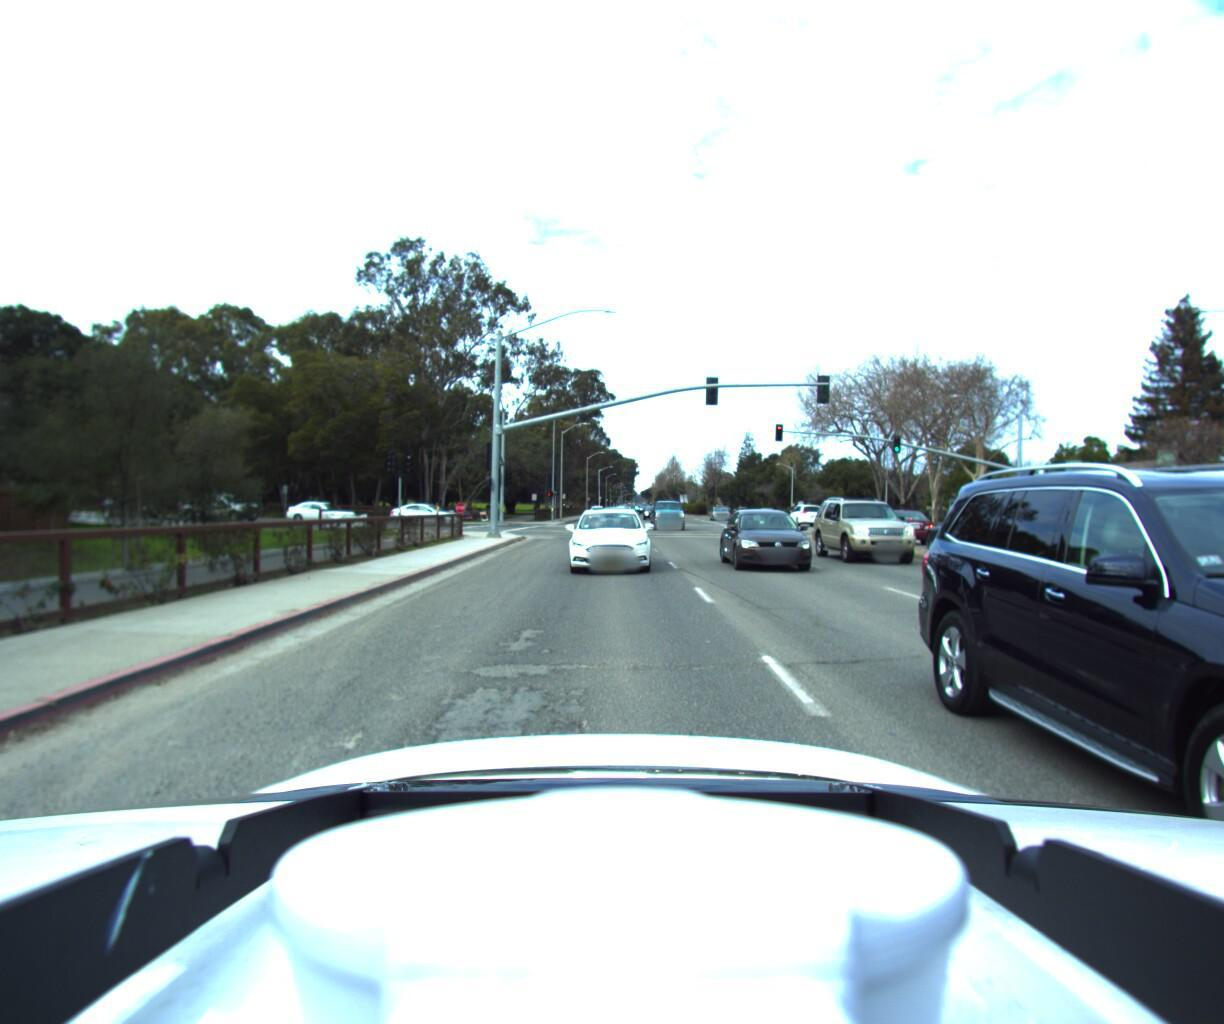car: (964, 292, 1224, 1024), (820, 491, 942, 567), (721, 508, 828, 580), (922, 507, 1034, 560), (565, 504, 649, 575), (859, 505, 939, 547), (383, 502, 467, 526), (1209, 513, 1224, 631), (281, 500, 360, 523), (650, 494, 686, 529), (784, 498, 820, 524), (711, 505, 734, 520)
